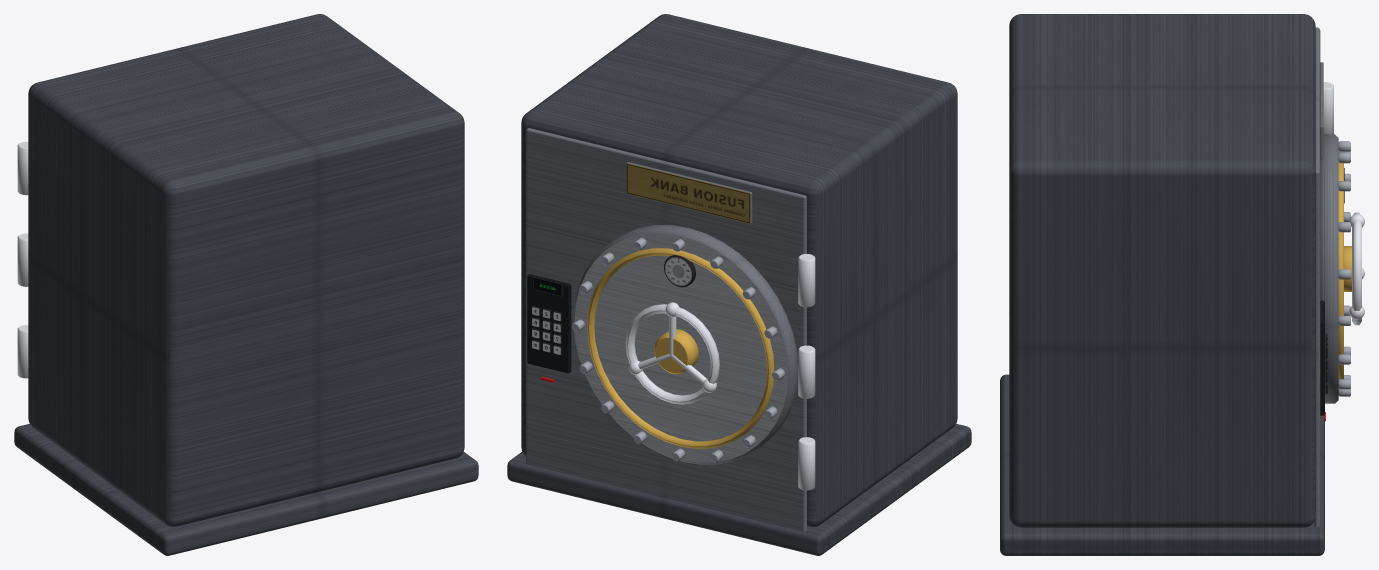
File: BankVault.obj
3 renders of one model, left to right at view 1: azimuth 30°, elevation 25°; view 2: azimuth 150°, elevation 25°; view 3: azimuth 270°, elevation 25°, orthographic. The views are drawn at different scales.
Bounding box in the file's own units: 1.26 × 1.4 × 1.19.
Materials: 16 (9 with a texture image).
